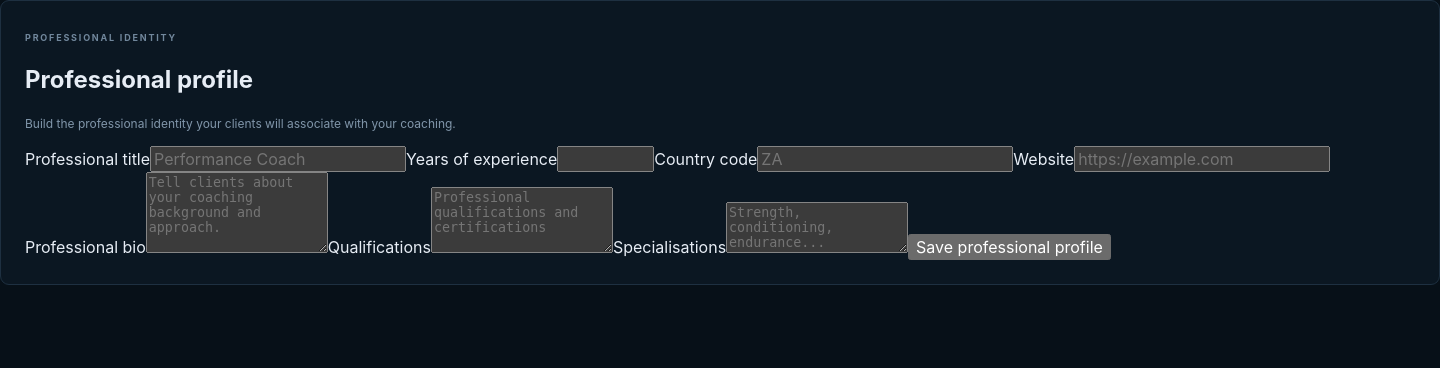
it: TrainerProfessionalProfile › rejects invalid years of experience before API submission
In the number field labelled "Years of experience": (606, 159) [557,146,654,172], type "101"
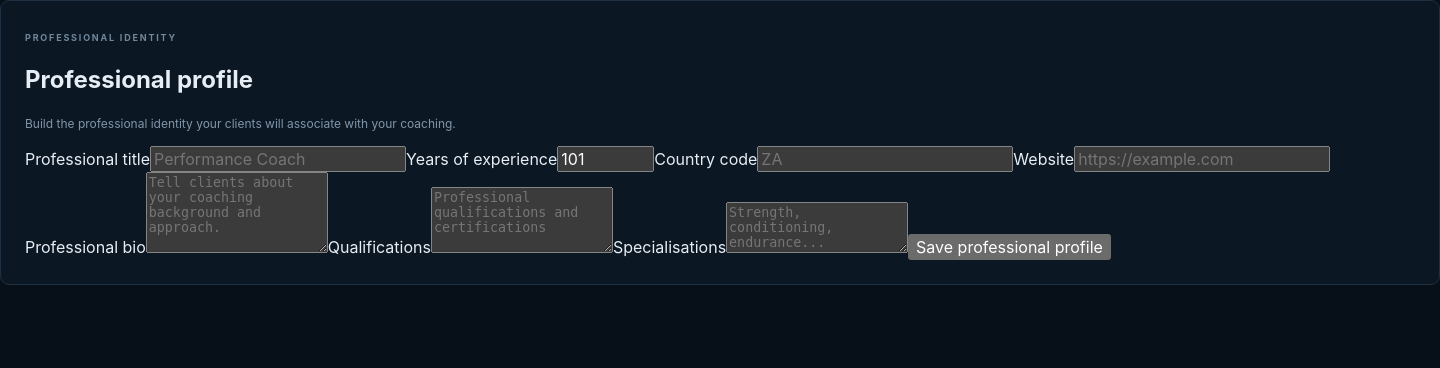
Submit the form named "Save professional profile", box [25,146,1415,260]
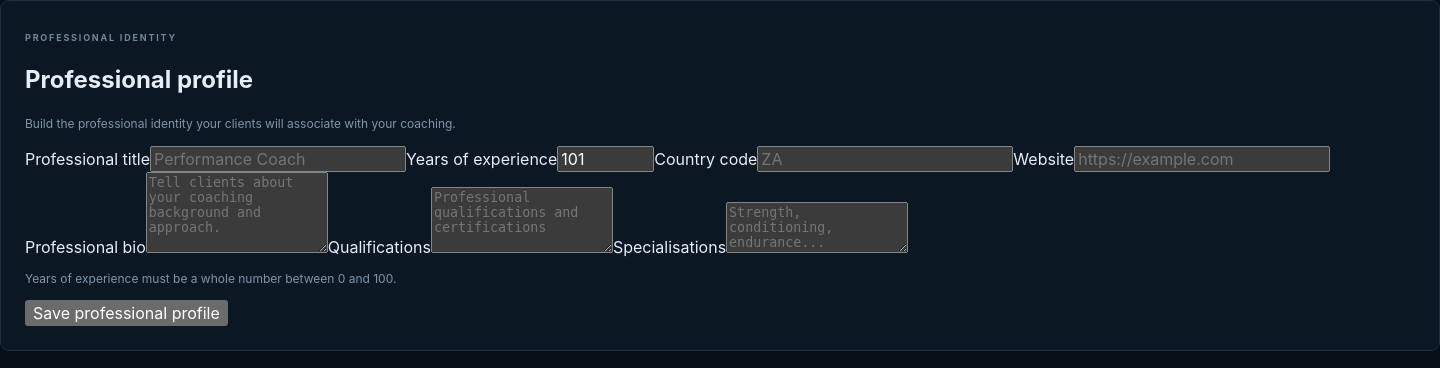
Expected: the message reads "Years of experience must be a whole number between 0 and 100.", [25,271,396,286]
